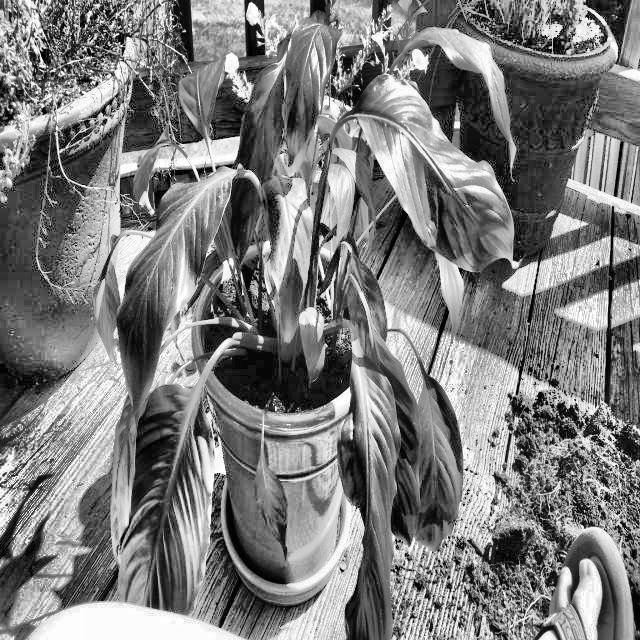plants: (128, 31, 508, 640), (0, 0, 126, 398), (252, 396, 304, 566), (276, 240, 302, 350)
